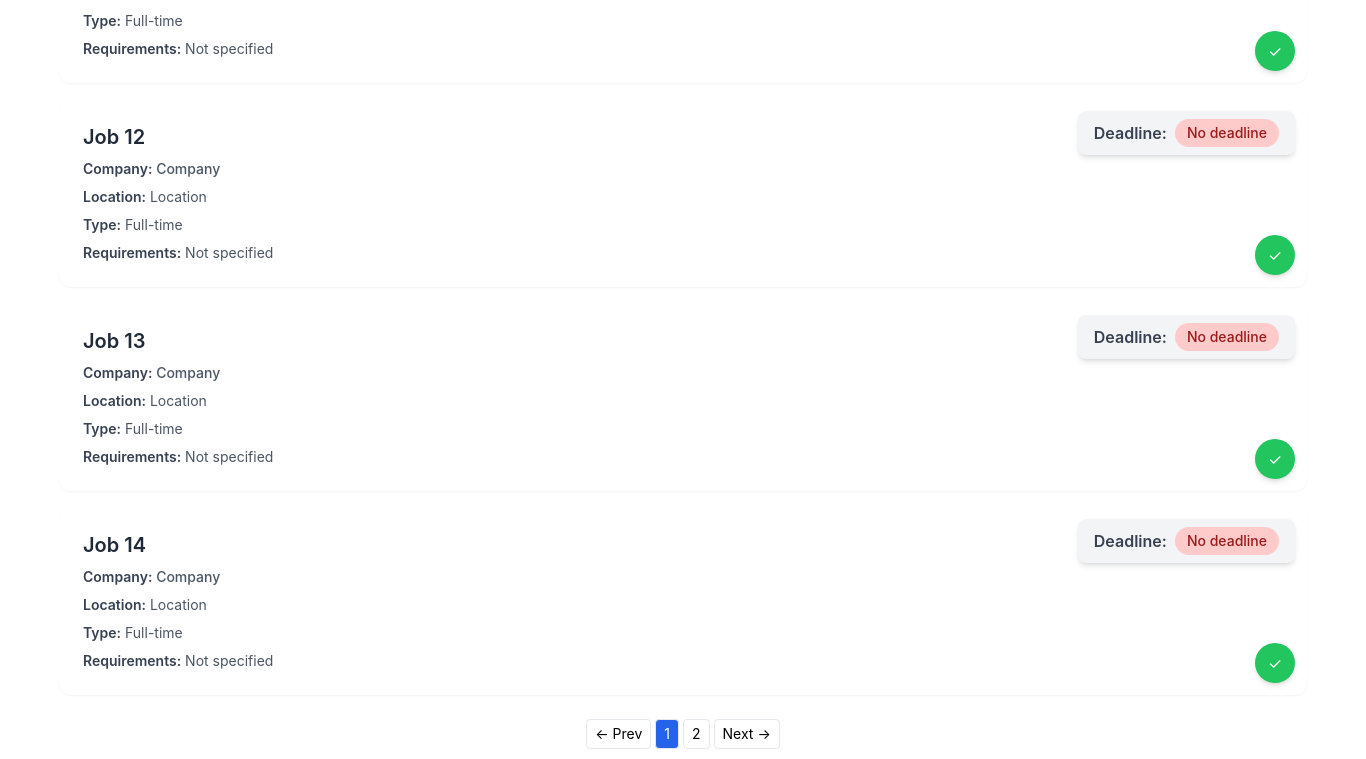
Scenario: ApplicantShortlist Component › changes page when pagination is clicked
(page scrolled)
Click the button "2": (696, 734) [692,725,700,742]
(page scrolled)
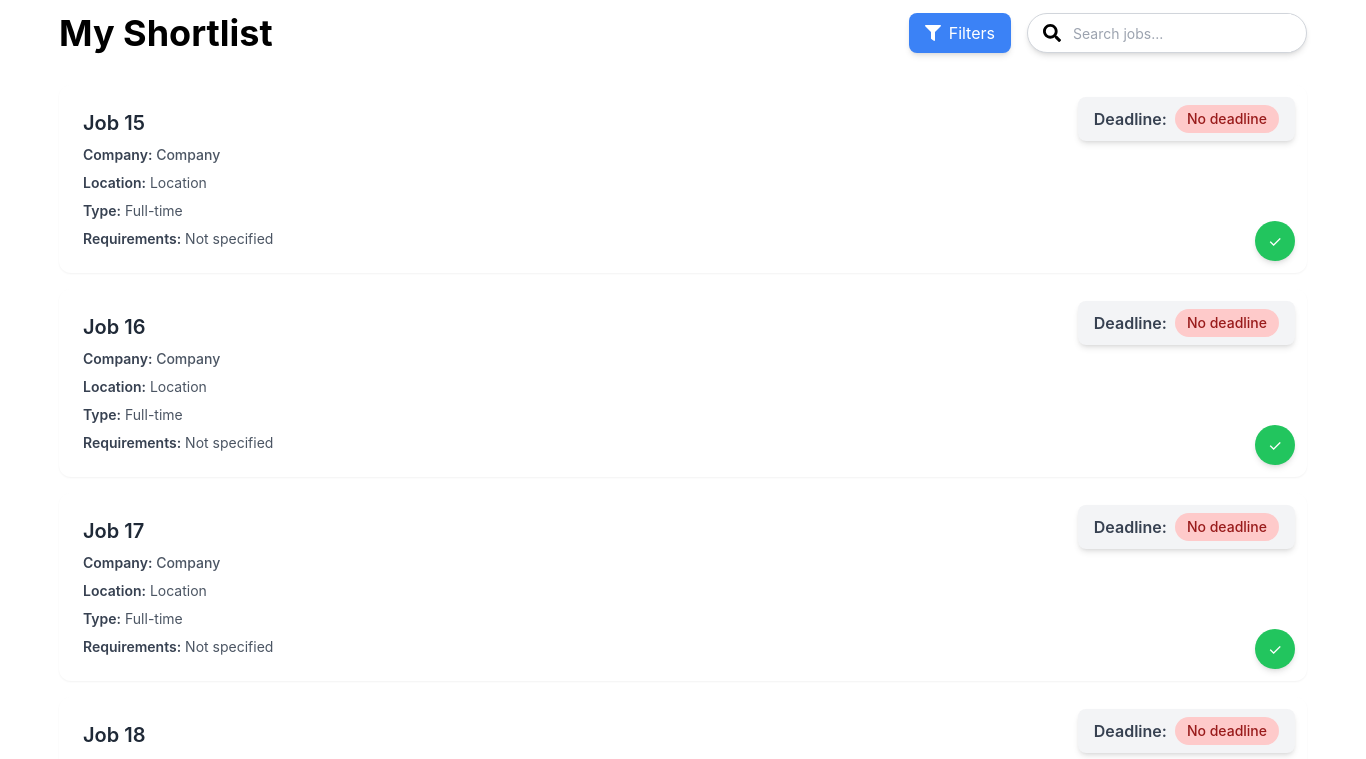
expect the heading "Job 15" is shown: met, box [83,111,145,135]
